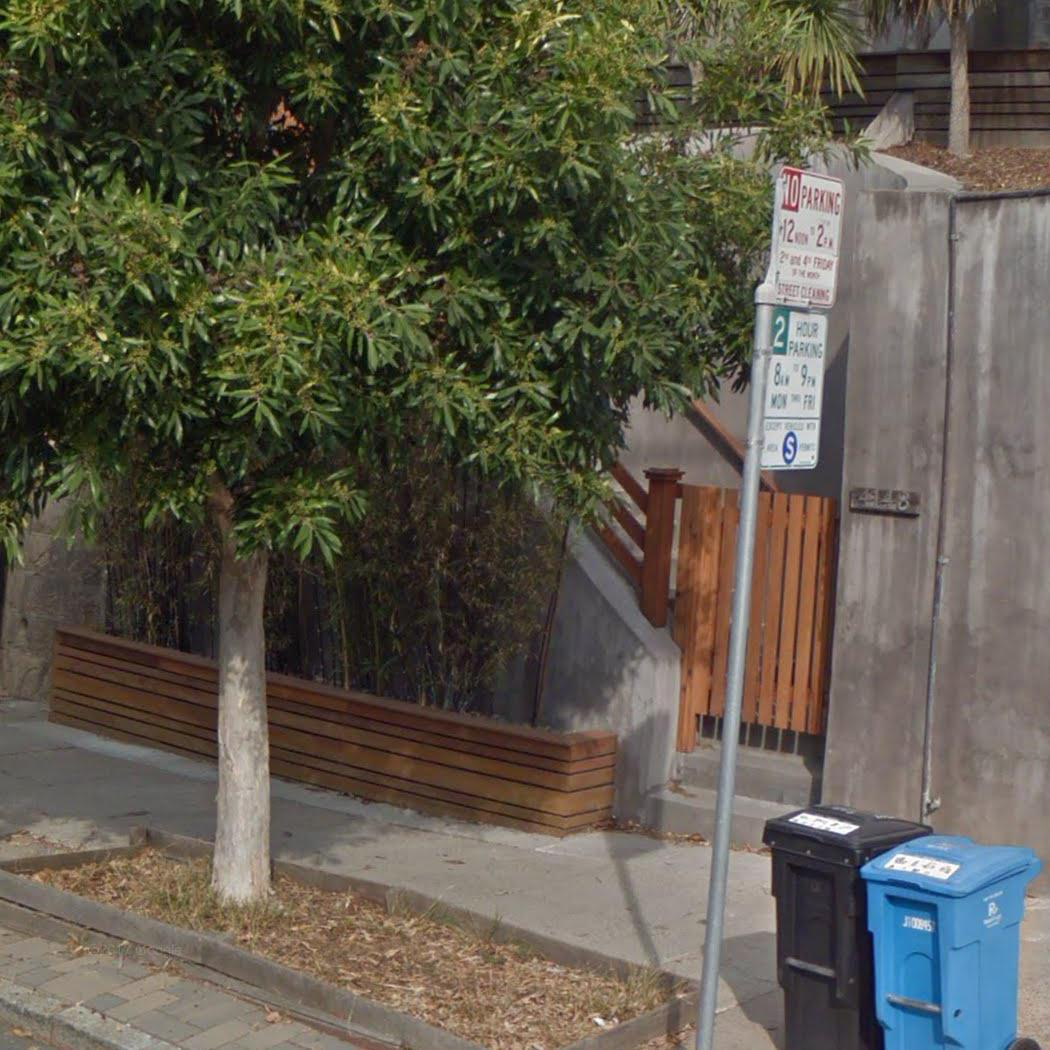2 Hour Parking: (757, 306, 833, 473)
No Parking: (765, 167, 846, 316)
